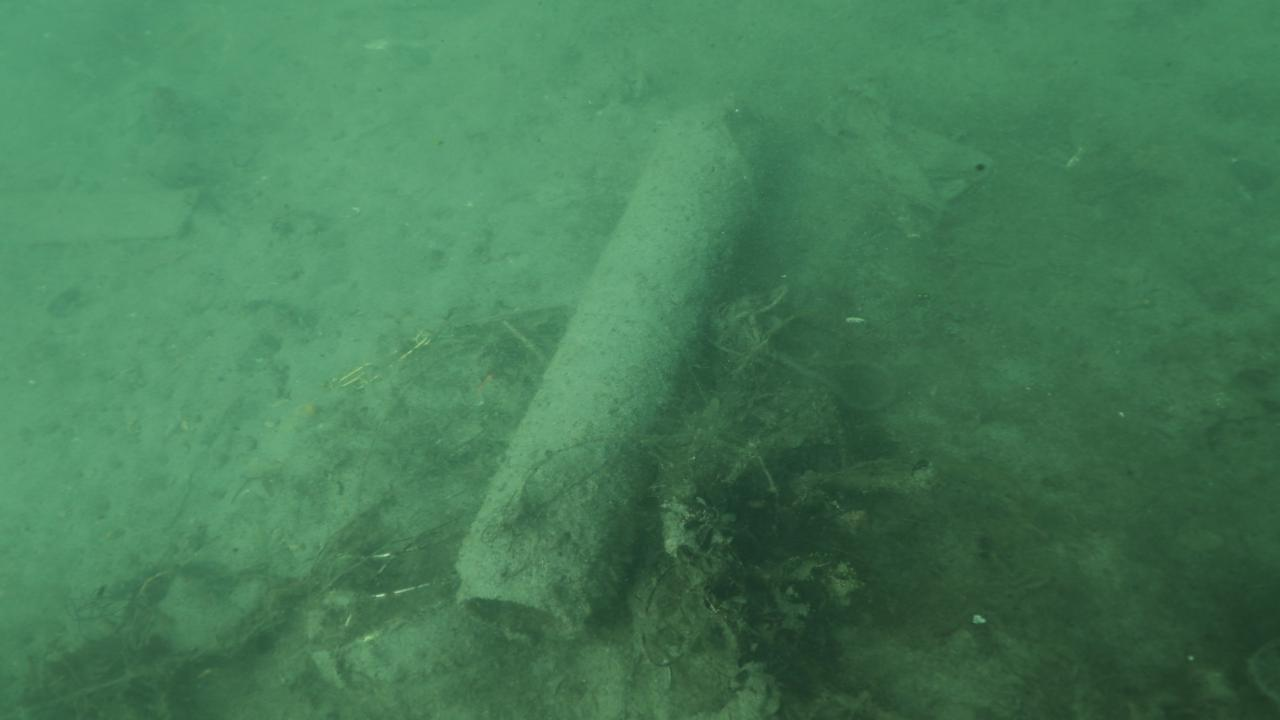eel fish trap: (451, 89, 779, 650)
